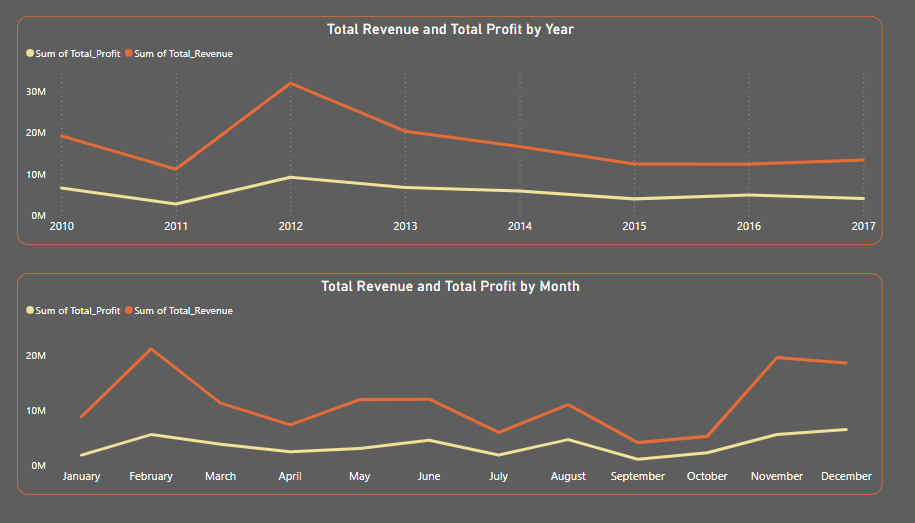

The dashboard page shown, as its layout file describes it:
{"tool":"powerbi","page":{"name":"Page 2","canvas":[1280,720],"ordinal":1},"visuals":[{"type":"lineChart","title":"Total Revenue and Total Profit by Month","fields":{"Category":["amazon_sales.Ship_Date.Variation.Date Hierarchy.Month"],"Y":["Sum(amazon_sales.Total_Profit)","Sum(amazon_sales.Total_Revenue)"]},"box":[61.8,360.7,1131,290.3],"z":0},{"type":"lineChart","title":"Total Revenue and Total Profit by Year","fields":{"Y":["Sum(amazon_sales.Total_Profit)","Sum(amazon_sales.Total_Revenue)"],"Category":["amazon_sales.Order_Date.Variation.Date Hierarchy.Year"]},"box":[61.8,24.4,1131,298.9],"z":1000}]}

Visuals, with their boxes in screenshot pixels (x1, y1, x2, y2), scaled from the page's 1280x720 canvas onto the 915x523 screenshot:
"Total Revenue and Total Profit by Month" lineChart: 44, 262, 853, 473
"Total Revenue and Total Profit by Year" lineChart: 44, 18, 853, 235
